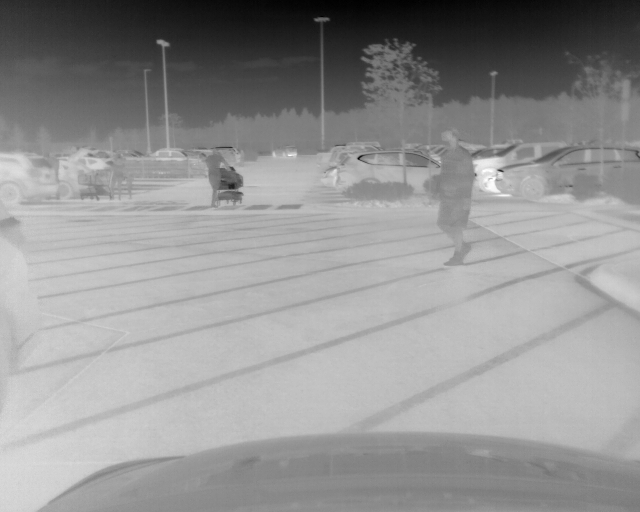car: (495, 143, 640, 202), (1, 217, 43, 415), (469, 140, 575, 192), (336, 150, 444, 194), (1, 151, 61, 209), (58, 160, 92, 200), (217, 145, 240, 166), (153, 148, 188, 161), (270, 144, 299, 159)
people: (437, 128, 476, 266), (204, 145, 228, 207), (109, 152, 126, 202), (124, 152, 135, 201)
